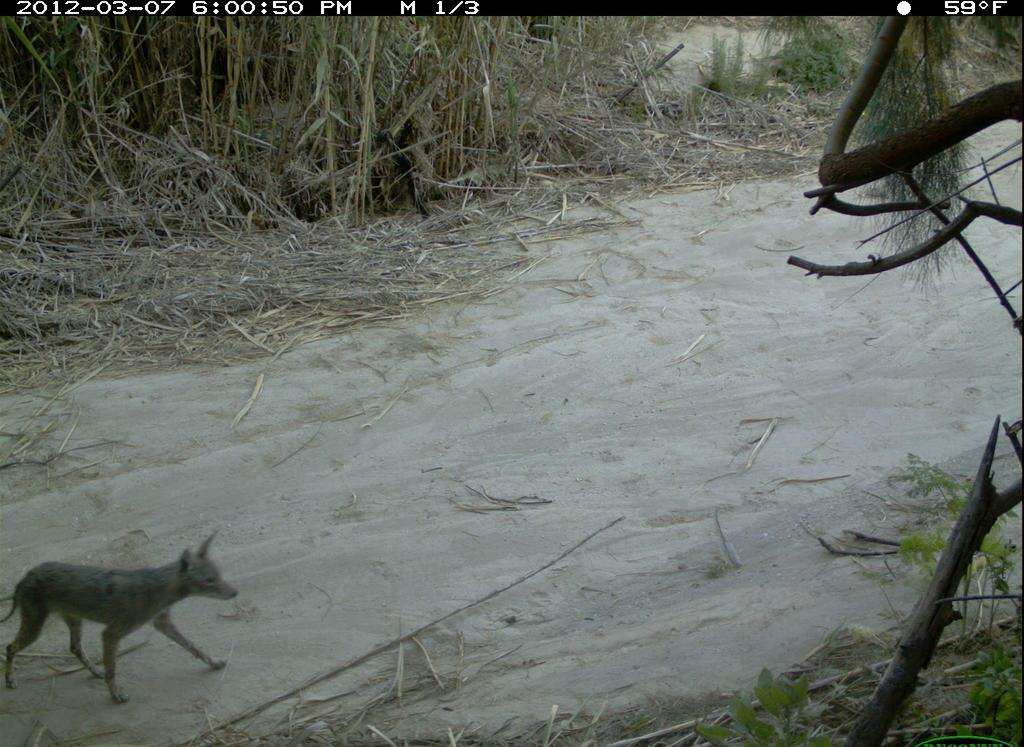coyote: (1, 529, 248, 716)
